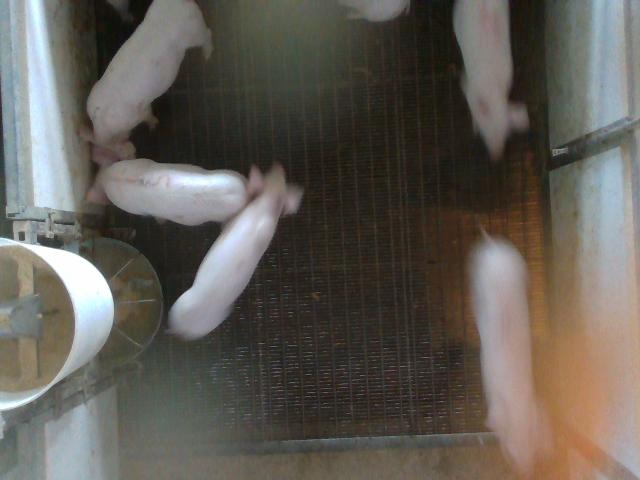pig-3: (88, 145, 248, 225)
